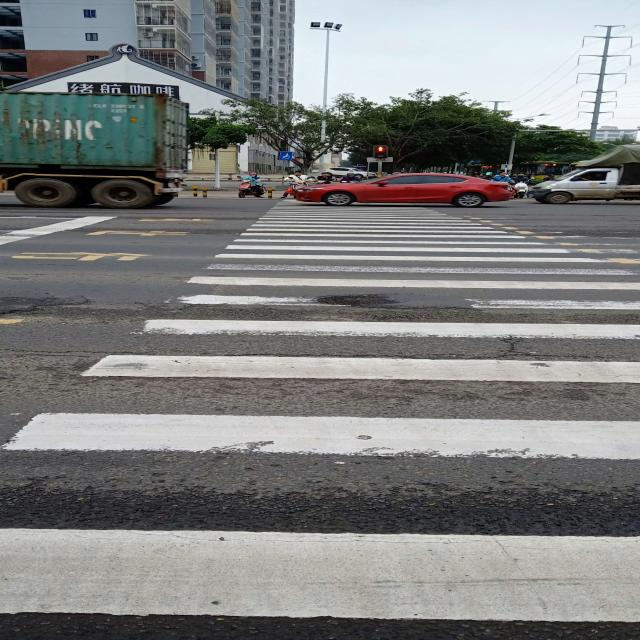Pothole: (293, 292, 496, 322)
